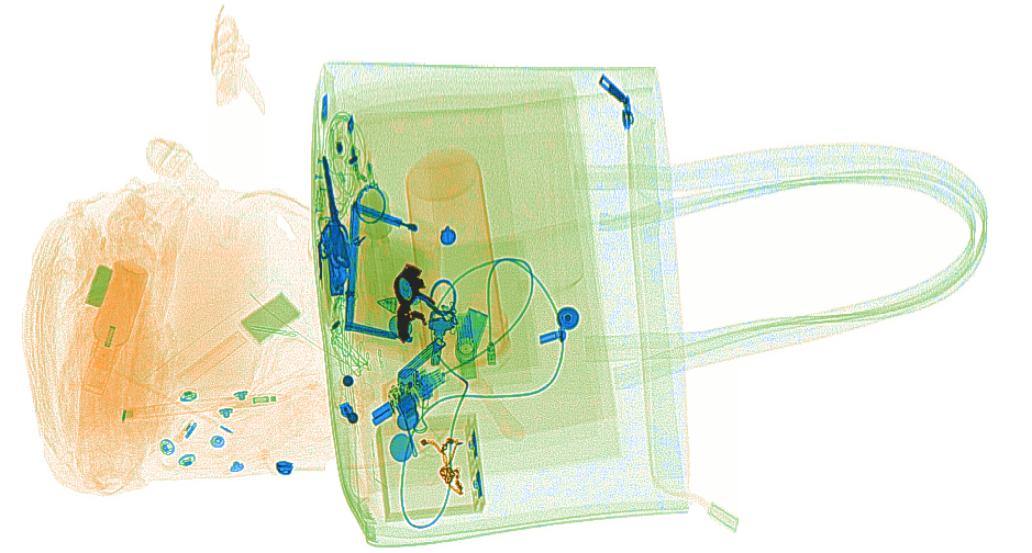USBFlashDisk: (451, 307, 487, 379)
plasticBottleWithaNozzle: (76, 256, 148, 396)
